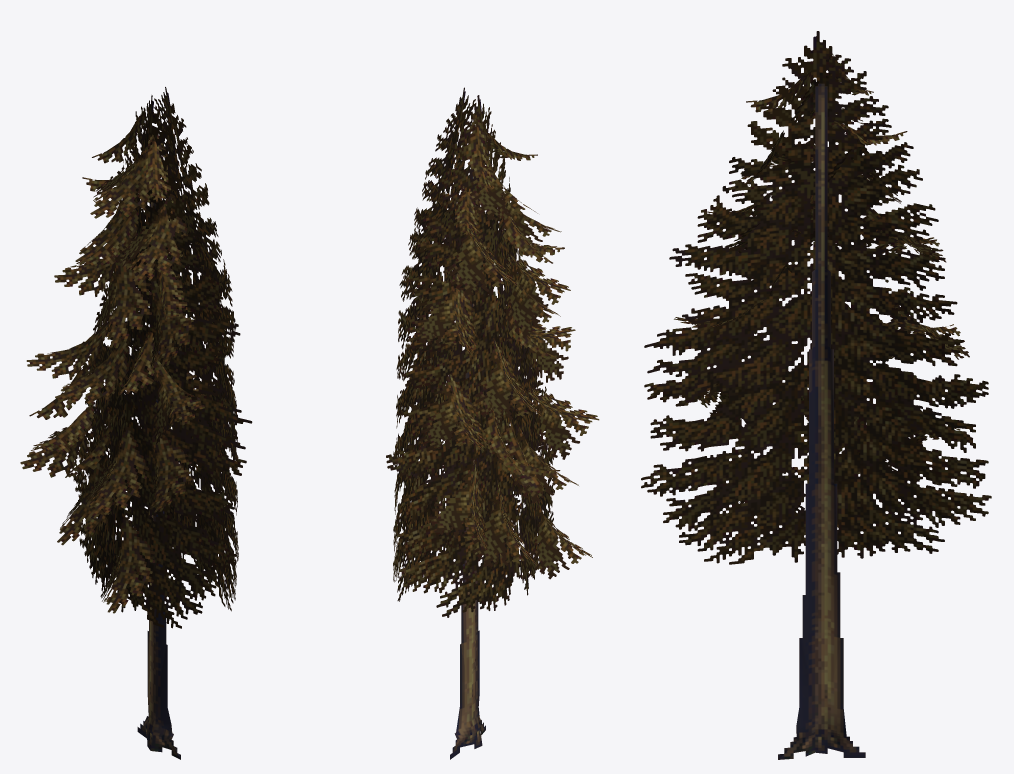
The model's file is EnvFldMD_Tree_C_LA_Painted.FBX.
3 renders of one model, left to right at view 1: azimuth 30°, elevation 25°; view 2: azimuth 150°, elevation 25°; view 3: azimuth 270°, elevation 25°, orthographic. The views are drawn at different scales.
Parts seen in each view (by area): view 1: EnvFldMD_Tree_C_LA_Painted; view 2: EnvFldMD_Tree_C_LA_Painted; view 3: EnvFldMD_Tree_C_LA_Painted.
Part boxes in pixels (box(x1,y1,x2,y2)): EnvFldMD_Tree_C_LA_Painted: box(20, 87, 252, 759); EnvFldMD_Tree_C_LA_Painted: box(386, 87, 599, 759); EnvFldMD_Tree_C_LA_Painted: box(641, 31, 991, 759).
Bounding box in the file's own units: 343 × 1282 × 580.
2 materials, 2 textured.
